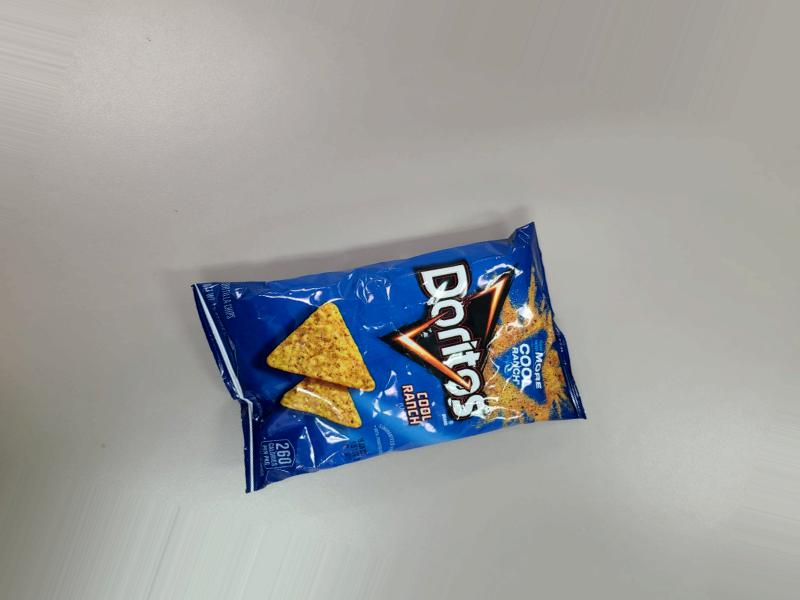doritos: (179, 219, 566, 487)
